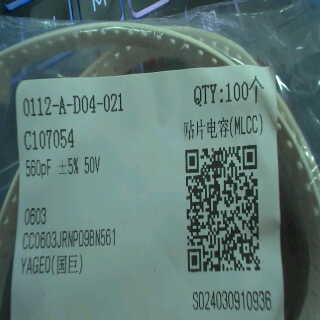560pF: (20, 154, 55, 179)
